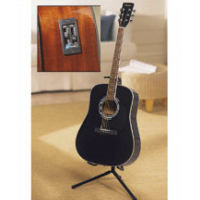guitar: (75, 3, 141, 166)
